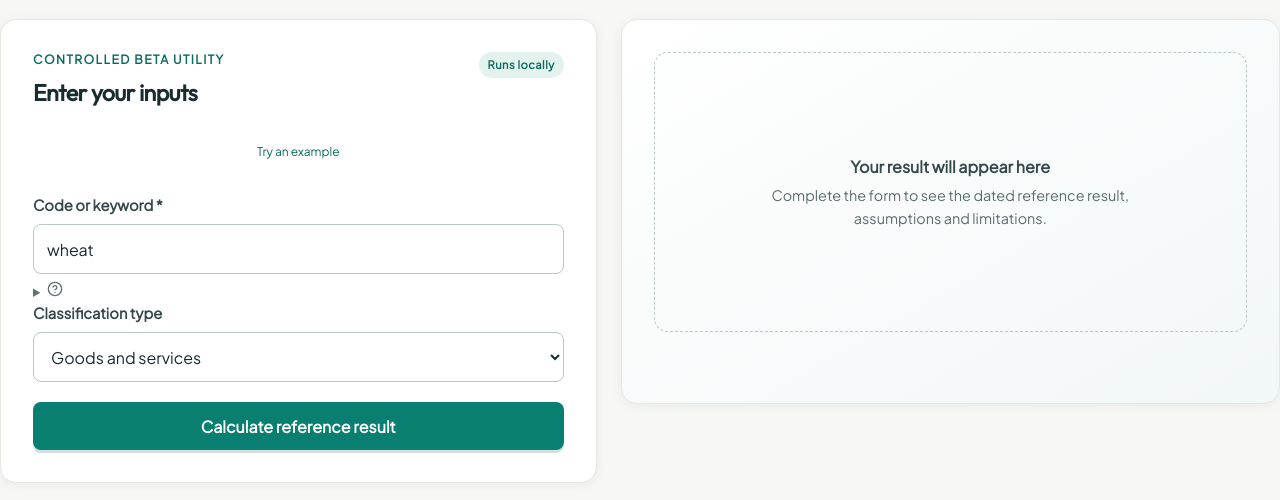
Scenario: regulated utility form › keeps HSN search local, interactive and explicitly classified as reference-only
Click the button "Try an example". click: (298, 152)
box: x1=33 y1=130 x2=564 y2=174
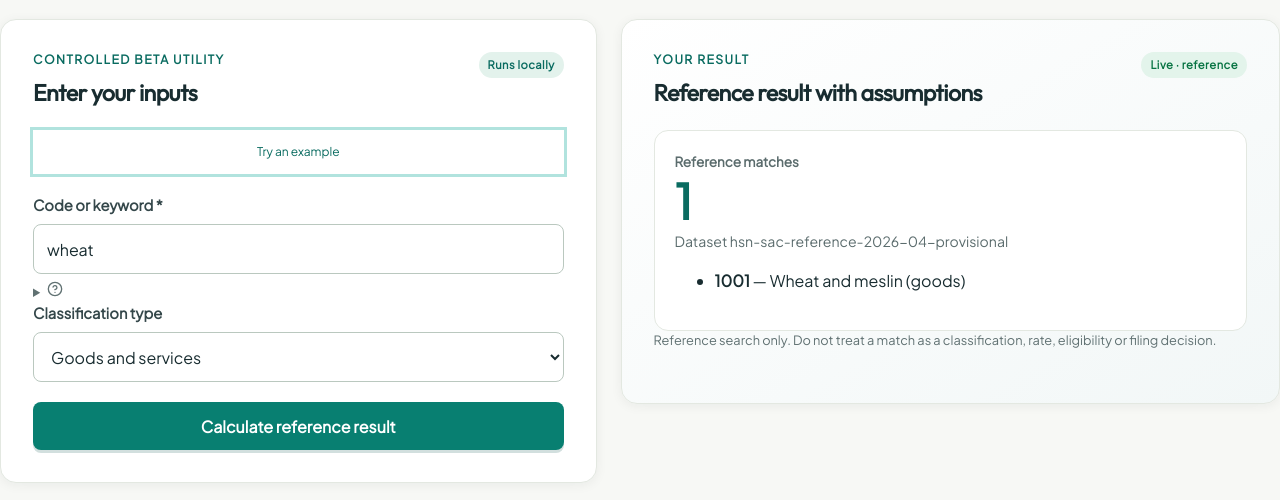
Replace the text in the field labelled "Code or keyword" with "bread". click: (298, 249)
box: x1=33 y1=224 x2=564 y2=274
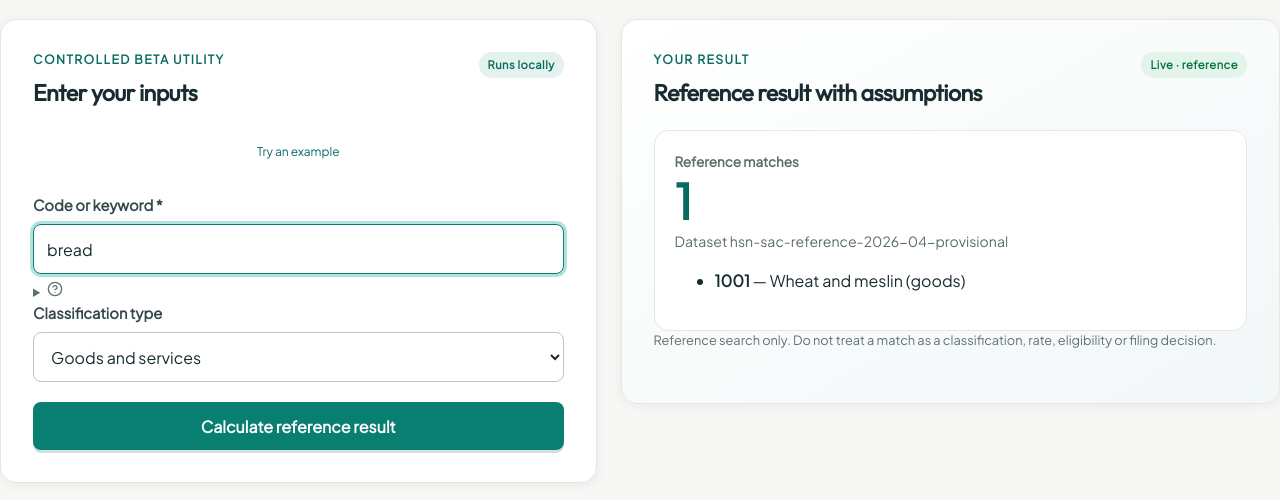
Click the button "Calculate reference result". click: (298, 426)
box: x1=33 y1=402 x2=564 y2=450
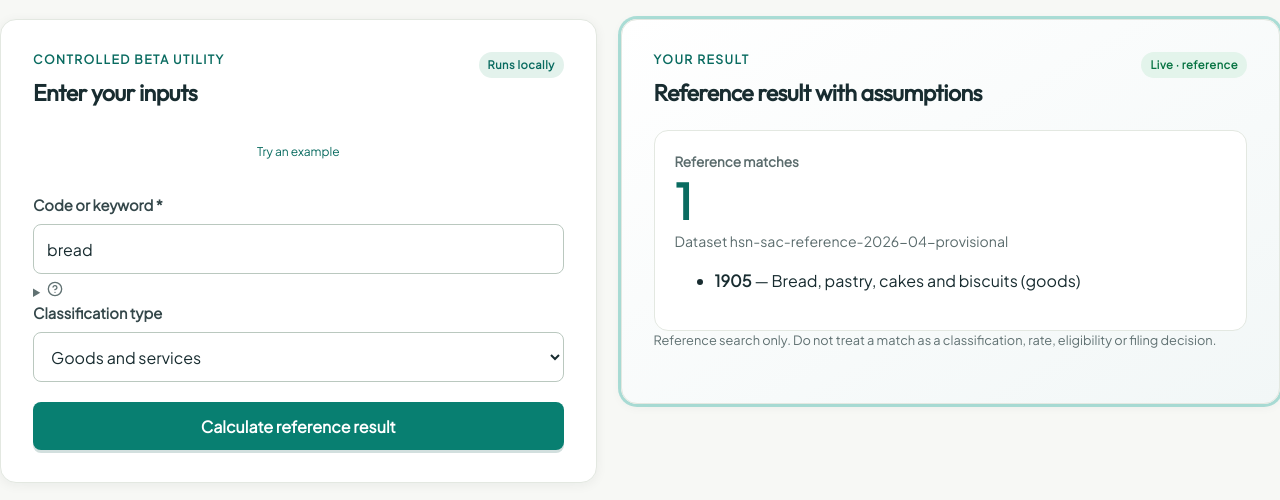
expect the text "Reference search only" is shown: met, box x1=654 y1=332 x2=1216 y2=348
expect the text "1905" is shown: met, box x1=715 y1=270 x2=752 y2=291
